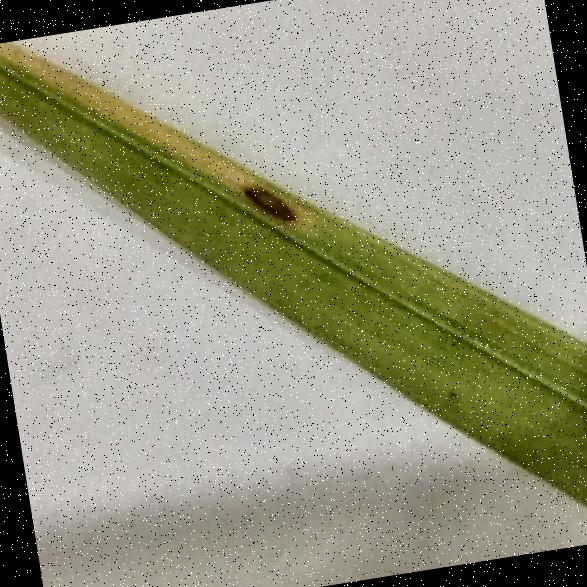Leaf_smut: (227, 166, 313, 254)
